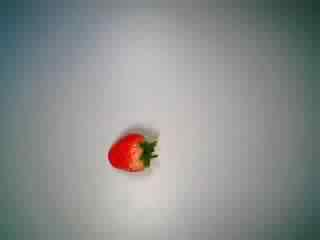strawberry: (97, 124, 163, 186)
